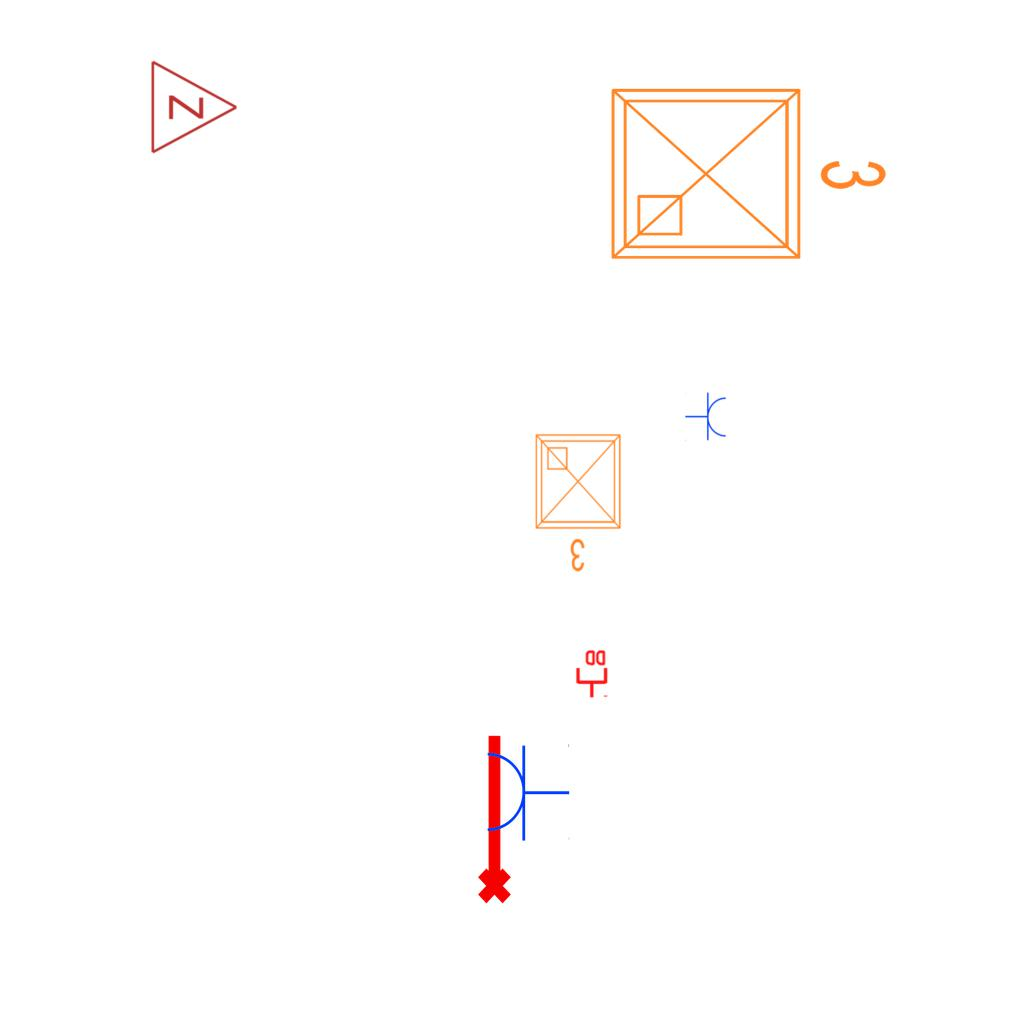ASR_Ansaugoeffnung: (469, 730, 515, 906)
Datenanschluss_zweifach: (574, 648, 608, 699)
Einbaudownlights_LED_Konferenzraeume: (597, 66, 897, 274), (528, 427, 632, 577)
Schukosteckdose_einfach: (483, 742, 570, 842), (685, 392, 728, 442)
Zimmersignalleuchte: (144, 57, 244, 155)
